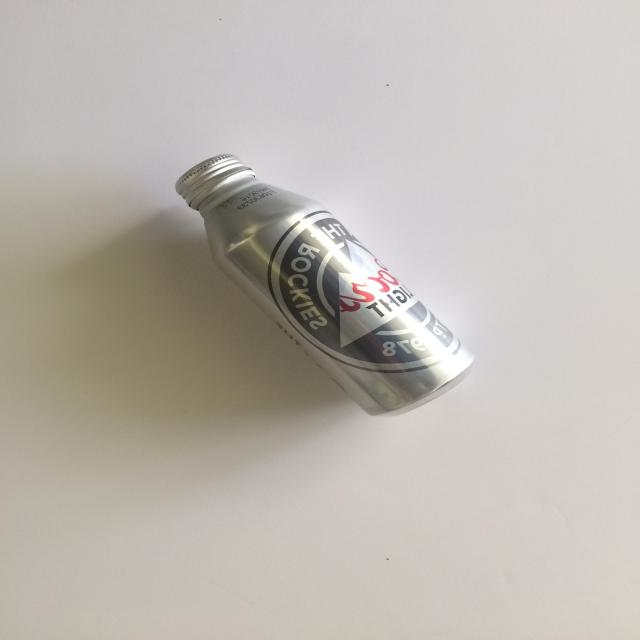metal: (174, 152, 476, 418)
